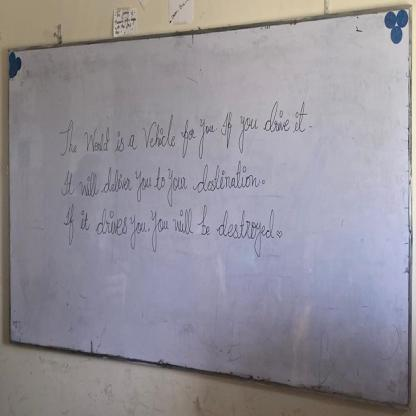Handwritten text: (52, 196, 279, 280), (55, 95, 308, 161), (60, 156, 262, 206)
Whiteboard: (5, 5, 410, 408)
